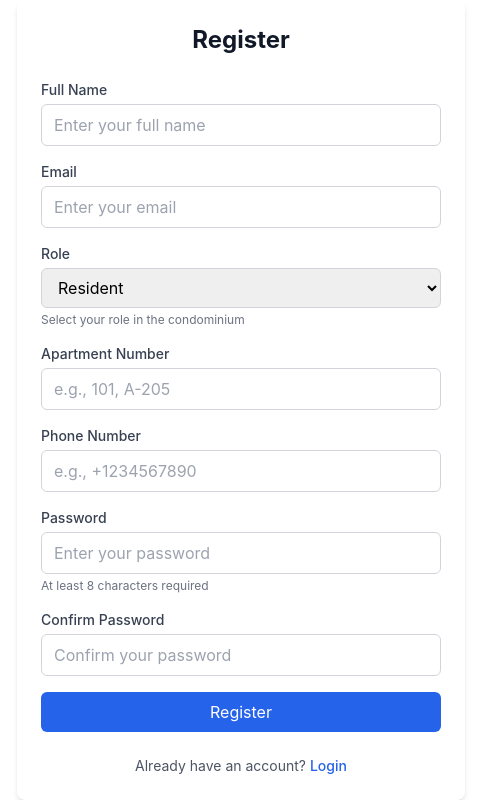
it: RegisterForm › validates password length
Type "John Doe" into the field labelled "Full Name".
click(241, 125); type("John Doe")  # box [41, 104, 441, 146]
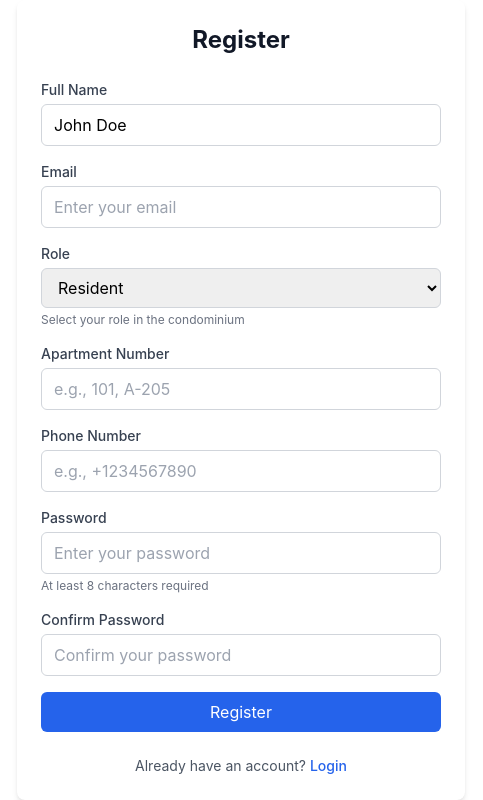
Type "john@example.com" into the field labelled "Email".
click(241, 207); type("john@example.com")  # box [41, 186, 441, 228]
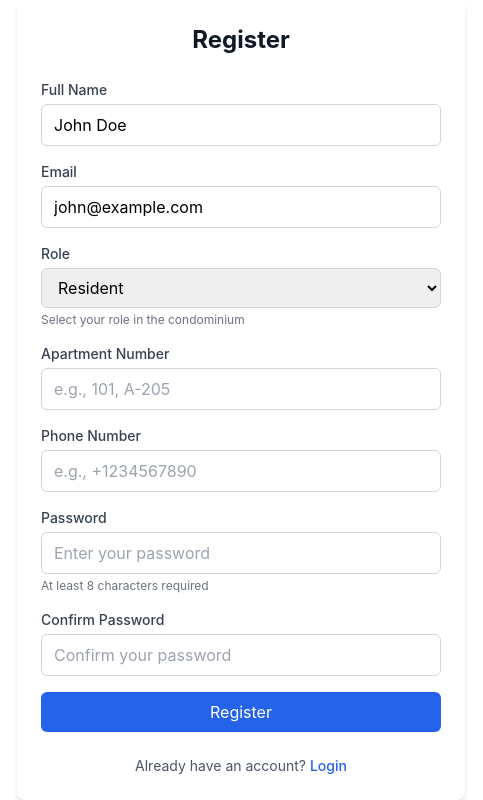
Type "short" into the password field labelled "Password".
click(241, 553); type("short")  # box [41, 532, 441, 574]
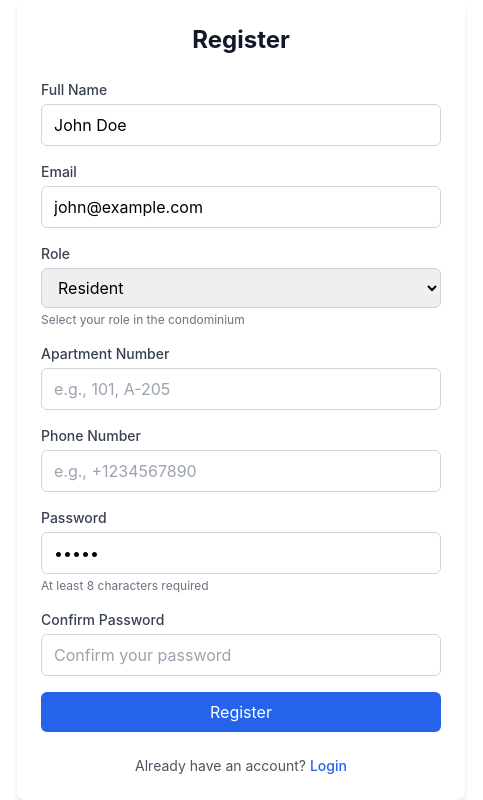
Type "short" into the password field labelled "Confirm Password".
click(241, 655); type("short")  # box [41, 634, 441, 676]
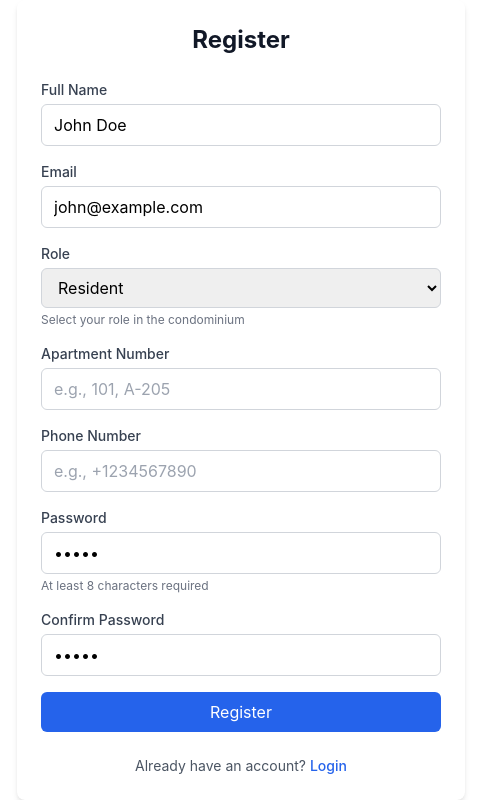
Click the button "Register".
click(241, 712)  # box [41, 692, 441, 732]
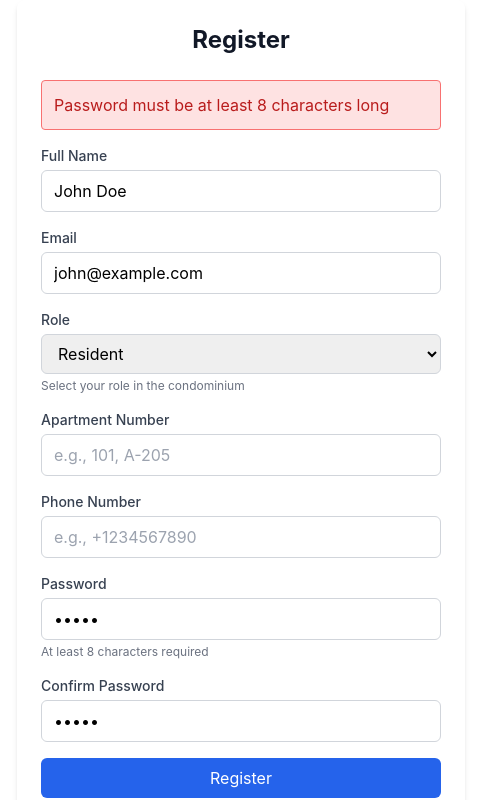
Result: the text "Password must be at least 8 characters long" is shown at [41, 80, 441, 130]
